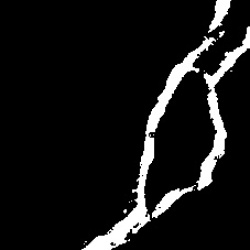crack: (83, 1, 248, 248)
